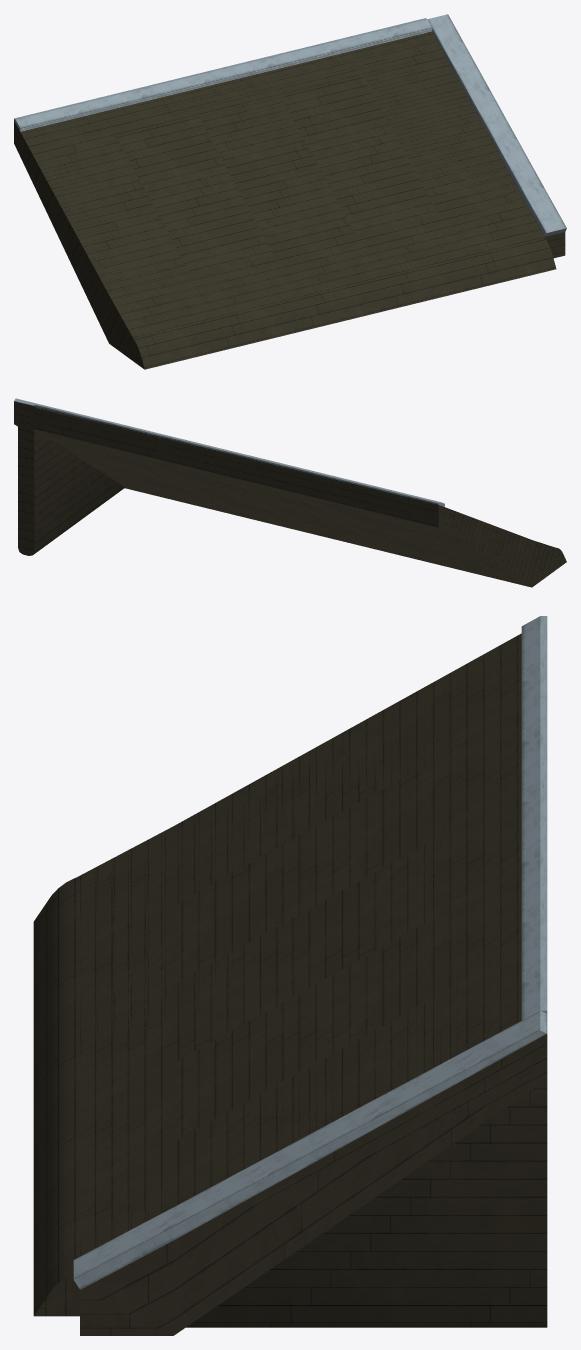
File: RoofModular.fbx
3 views of the same model, one above another, from view 1: azimuth 30°, elevation 25°; view 2: azimuth 150°, elevation 25°; view 3: azimuth 270°, elevation 25° (orthographic). The views are drawn at different scales.
Parts seen in each view (by area): view 1: Roof, RoofWindows, RoofLowEdge, TopDetail, RoofSideEnd; view 2: Roof, RoofWindows, RoofEnd, TopDetail, RoofSideEnd; view 3: Roof, RoofWindows, RoofSideEnd, RoofEnd, RoofLowEdge, TopDetail.
Part boxes in pixels (<box>): Roof: <box>14,31,544,360</box>; RoofWindows: <box>14,32,543,342</box>; RoofLowEdge: <box>133,237,556,369</box>; TopDetail: <box>14,18,432,131</box>; RoofSideEnd: <box>427,14,566,258</box>; Roof: <box>34,406,555,587</box>; RoofWindows: <box>34,407,531,587</box>; RoofEnd: <box>18,425,124,555</box>; TopDetail: <box>34,403,444,506</box>; RoofSideEnd: <box>14,398,126,488</box>; Roof: <box>80,633,521,1256</box>; RoofWindows: <box>80,636,521,1256</box>; RoofSideEnd: <box>73,1011,547,1335</box>; RoofEnd: <box>186,1080,547,1327</box>; RoofLowEdge: <box>33,876,79,1316</box>; TopDetail: <box>521,616,547,1020</box>.
Bounding box in the file's own units: 1050 × 361 × 550.
